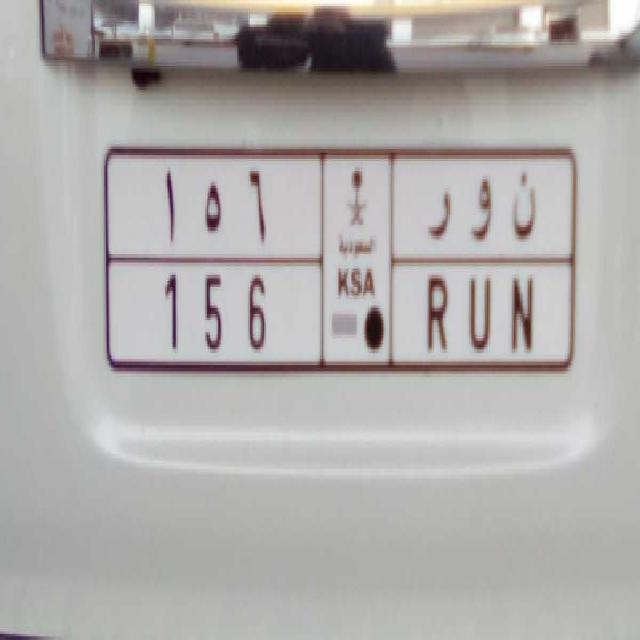license_plate: (110, 256, 574, 368)
